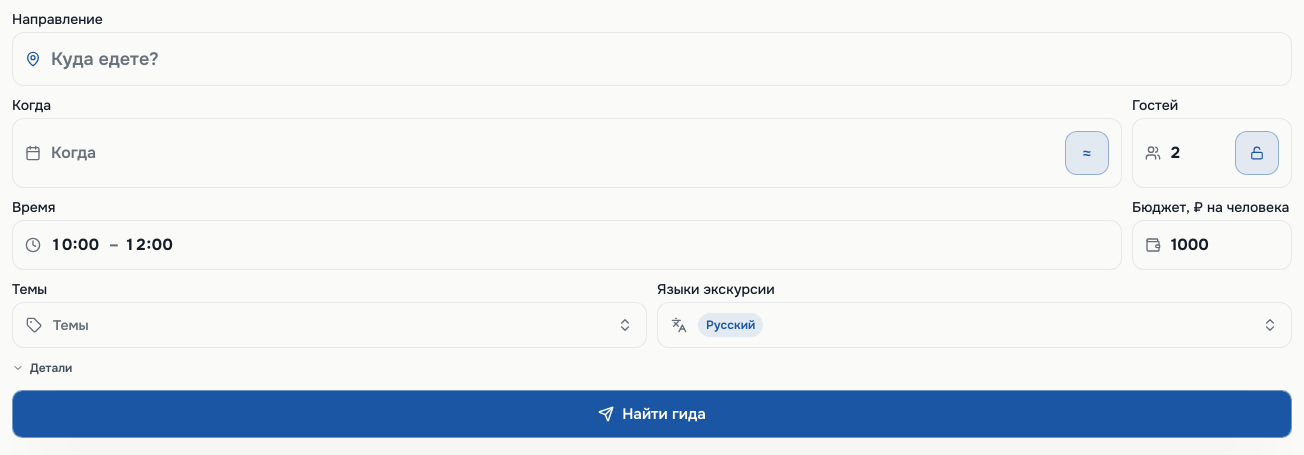
Scenario: HomepageRequestFormClassic destination typeahead › selects a suggestion on click
Type "Кав" into the dropdown labelled "Направление" at (665, 59), box [51, 45, 1279, 73]
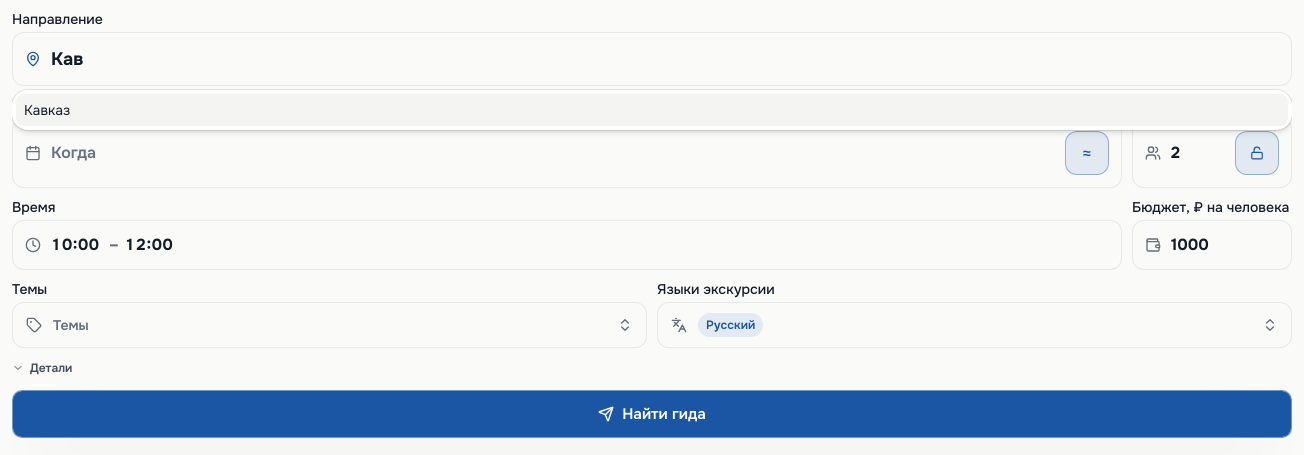
Click the option "Кавказ" at (47, 110), box [16, 94, 1288, 126]
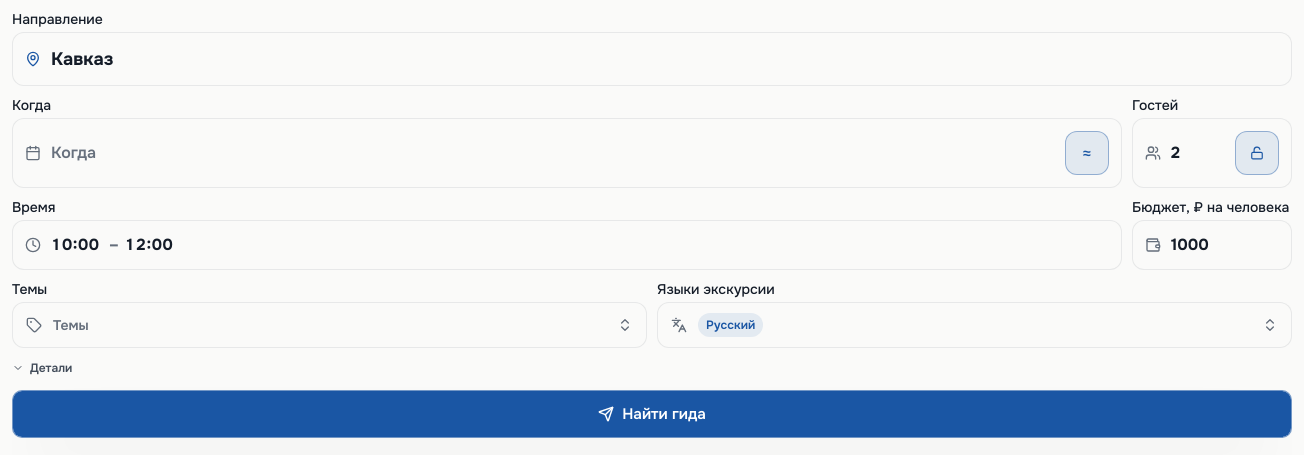
Expected: the dropdown labelled "Направление" holds "Кавказ", [51, 45, 1279, 73]
Expected: the list is gone
